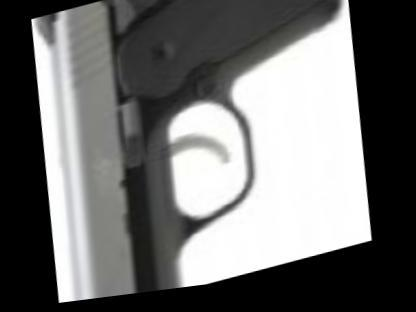pistol: (21, 0, 375, 308)
